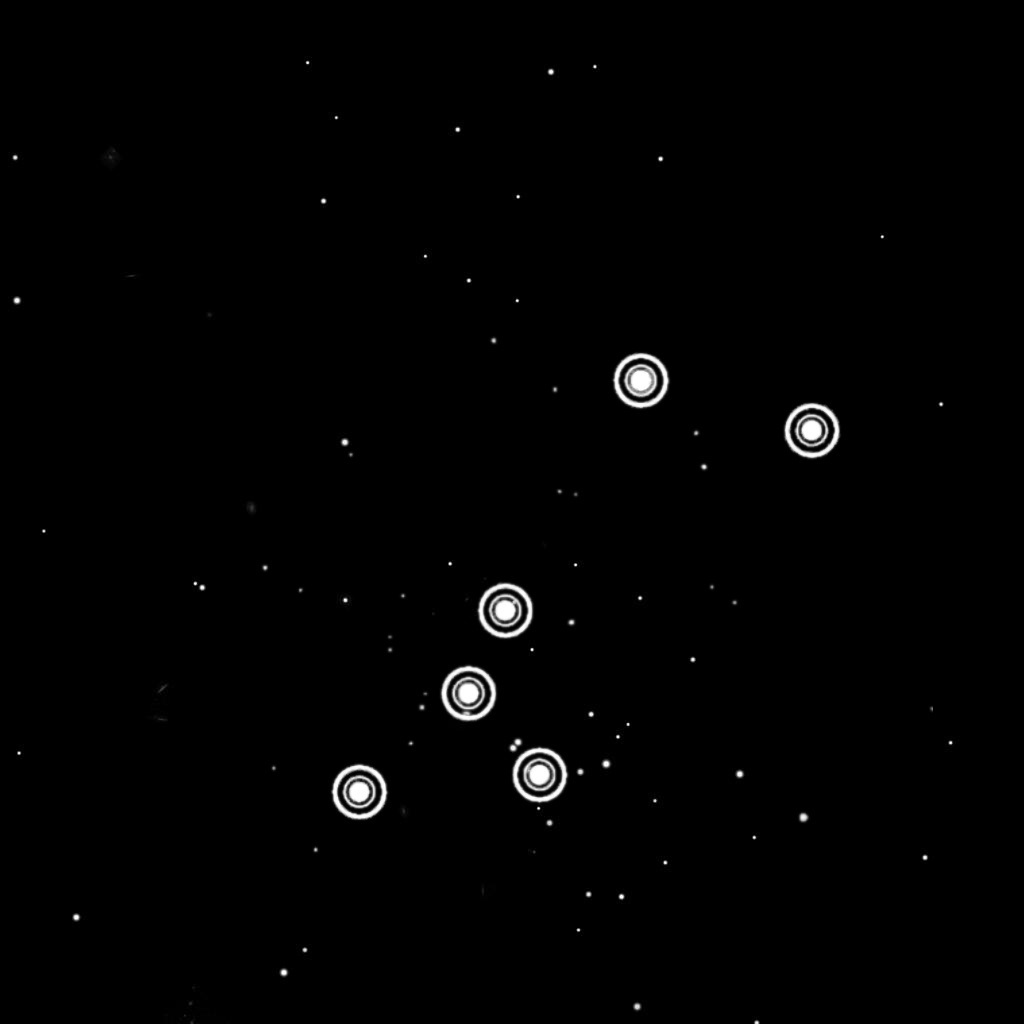canis_major: (319, 338, 852, 840)
